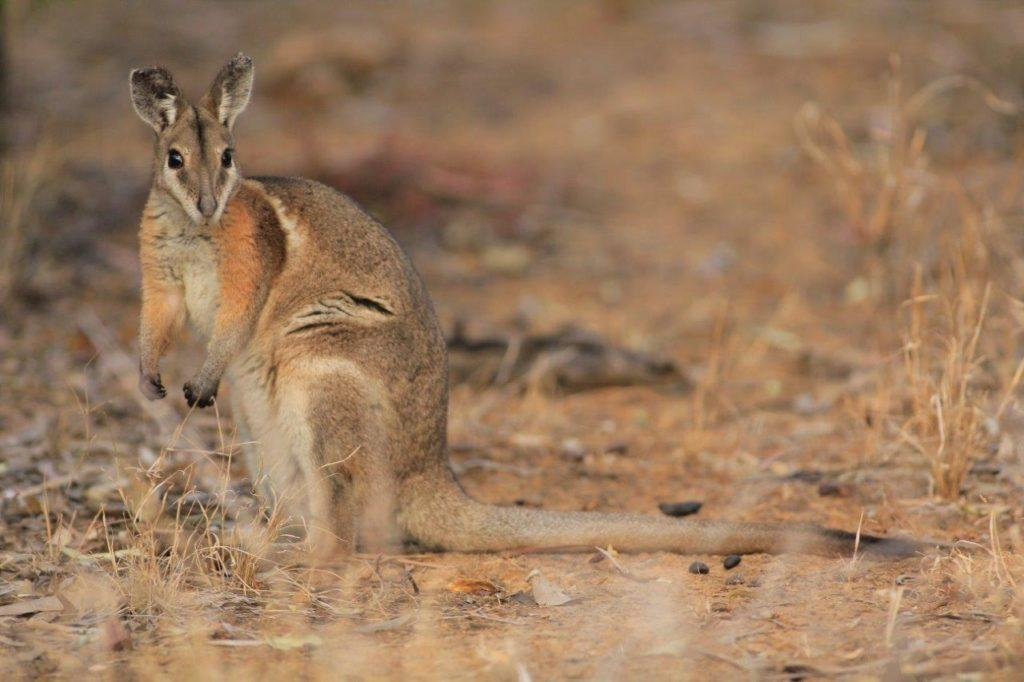Bridled-nail-tail wallaby: (130, 54, 1005, 578)
